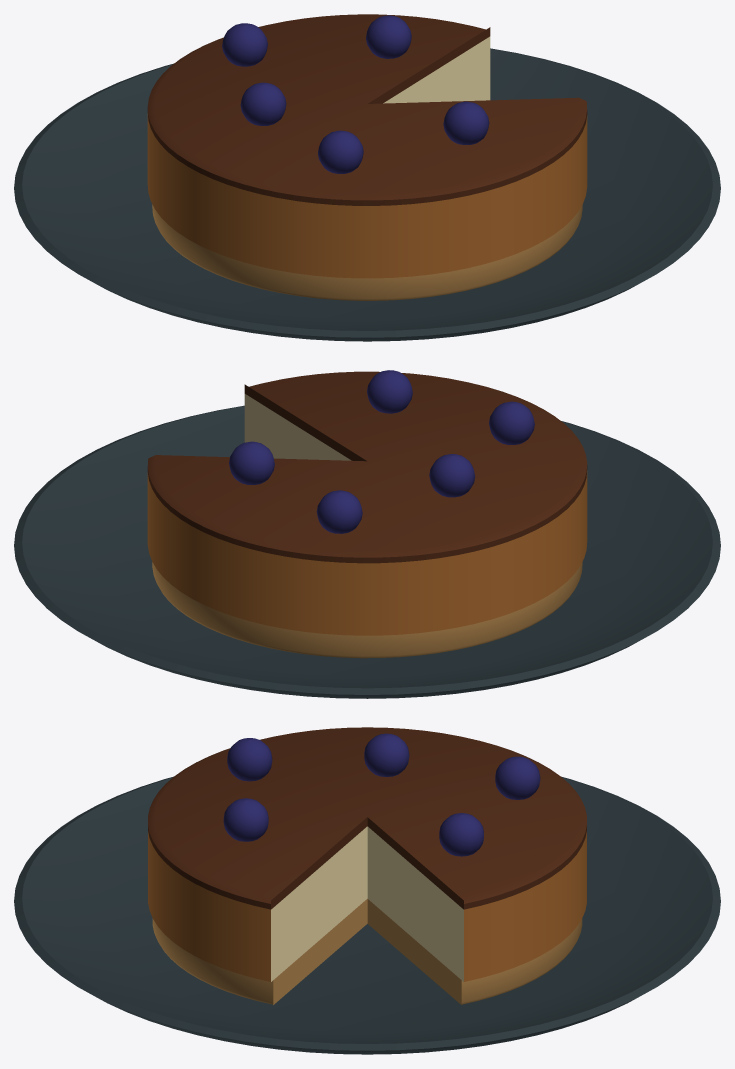
File: tarta-de-queso.glb
The picture shows the model from 3 angles, top to bottom: view 1: azimuth 30°, elevation 25°; view 2: azimuth 150°, elevation 25°; view 3: azimuth 270°, elevation 25°; orthographic projection.
Parts seen in each view (by area): view 1: tarta-de-queso; view 2: tarta-de-queso; view 3: tarta-de-queso.
Part boxes in pixels (x1,y1,x2,y2): tarta-de-queso: (14, 14, 720, 341); tarta-de-queso: (14, 370, 720, 698); tarta-de-queso: (14, 727, 720, 1054).
Bounding box in the file's own units: 0.23 × 0.0605 × 0.23.
